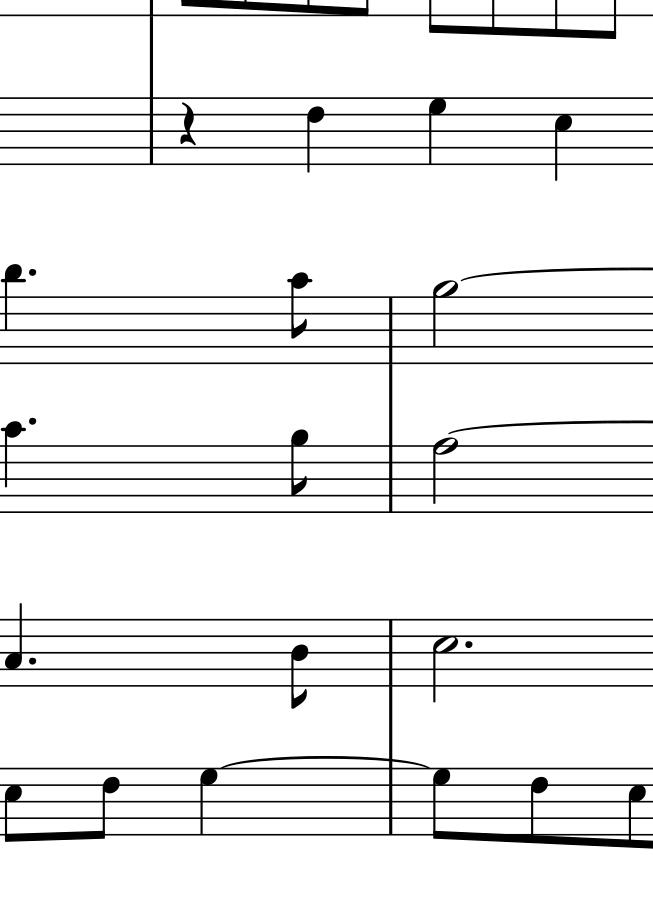2_5: (431, 618, 458, 704)
2_8: (430, 277, 457, 368), (431, 435, 456, 515)
4_10: (3, 418, 26, 515)
4_3: (3, 603, 25, 686)
4_5: (552, 98, 574, 184)
4_6: (305, 95, 325, 174)
4_7: (427, 97, 449, 166), (198, 767, 220, 836)
8_10: (288, 271, 311, 366)
8_11: (2, 261, 24, 368)
8_4: (289, 617, 310, 711), (529, 765, 549, 846)
8_5: (626, 766, 647, 850), (3, 765, 23, 845)
8_6: (91, 766, 121, 843)
8_7: (431, 765, 452, 842)
8_9: (289, 429, 309, 515)
Rests4: (175, 101, 199, 149)
Single_barline: (382, 296, 400, 365), (382, 768, 400, 834), (142, 98, 160, 163), (382, 619, 399, 687), (382, 445, 399, 510)
Slur: (221, 755, 434, 768)
dot: (461, 637, 475, 652), (25, 266, 38, 279), (26, 415, 38, 428), (26, 654, 38, 667)
